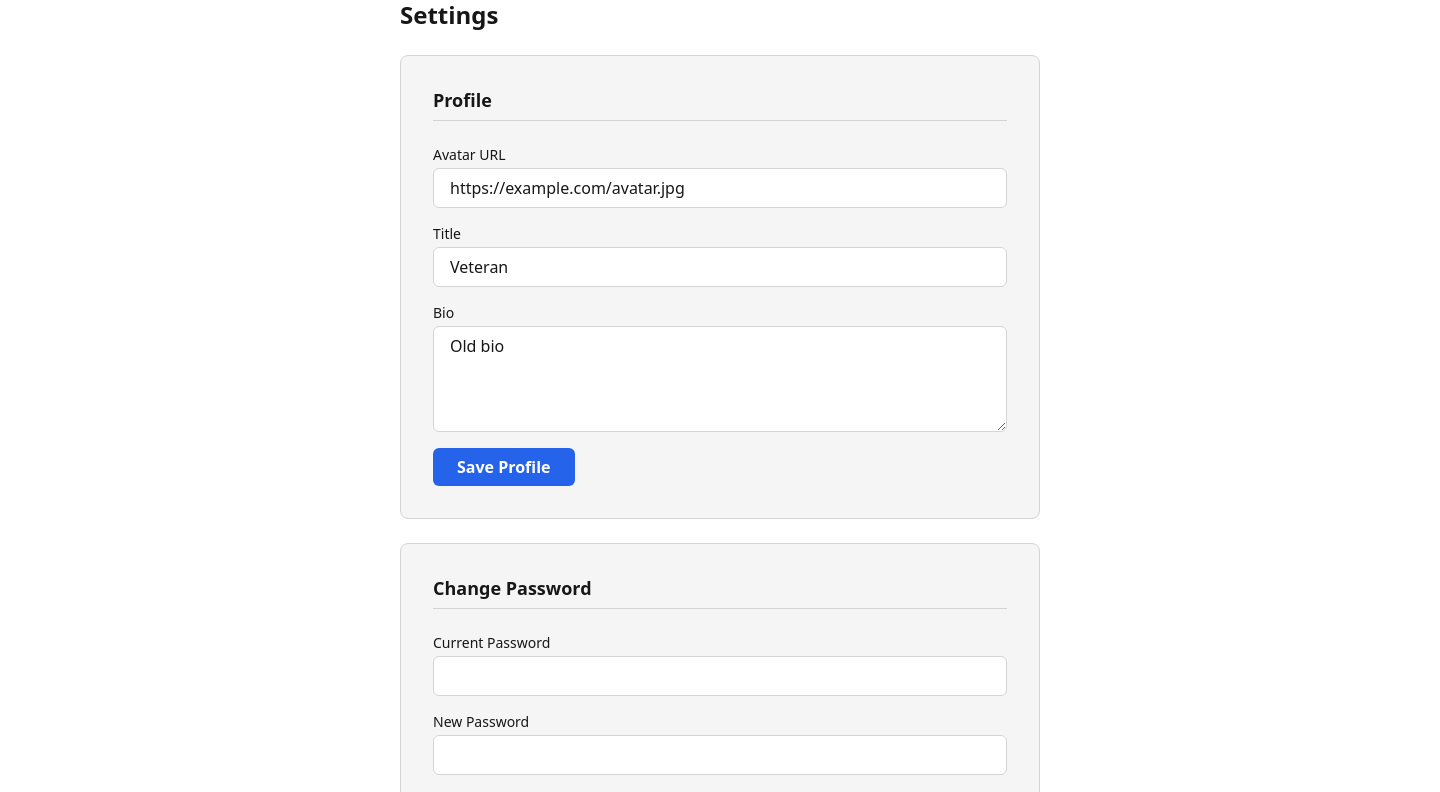
Test case: UserSettingsPage › shows error when new password is too short
The width and height of the screenshot is (1440, 792).
Step 1. Type "oldpass123" into the password field labelled "Current Password" → (720, 676), box [433,656,1007,696]
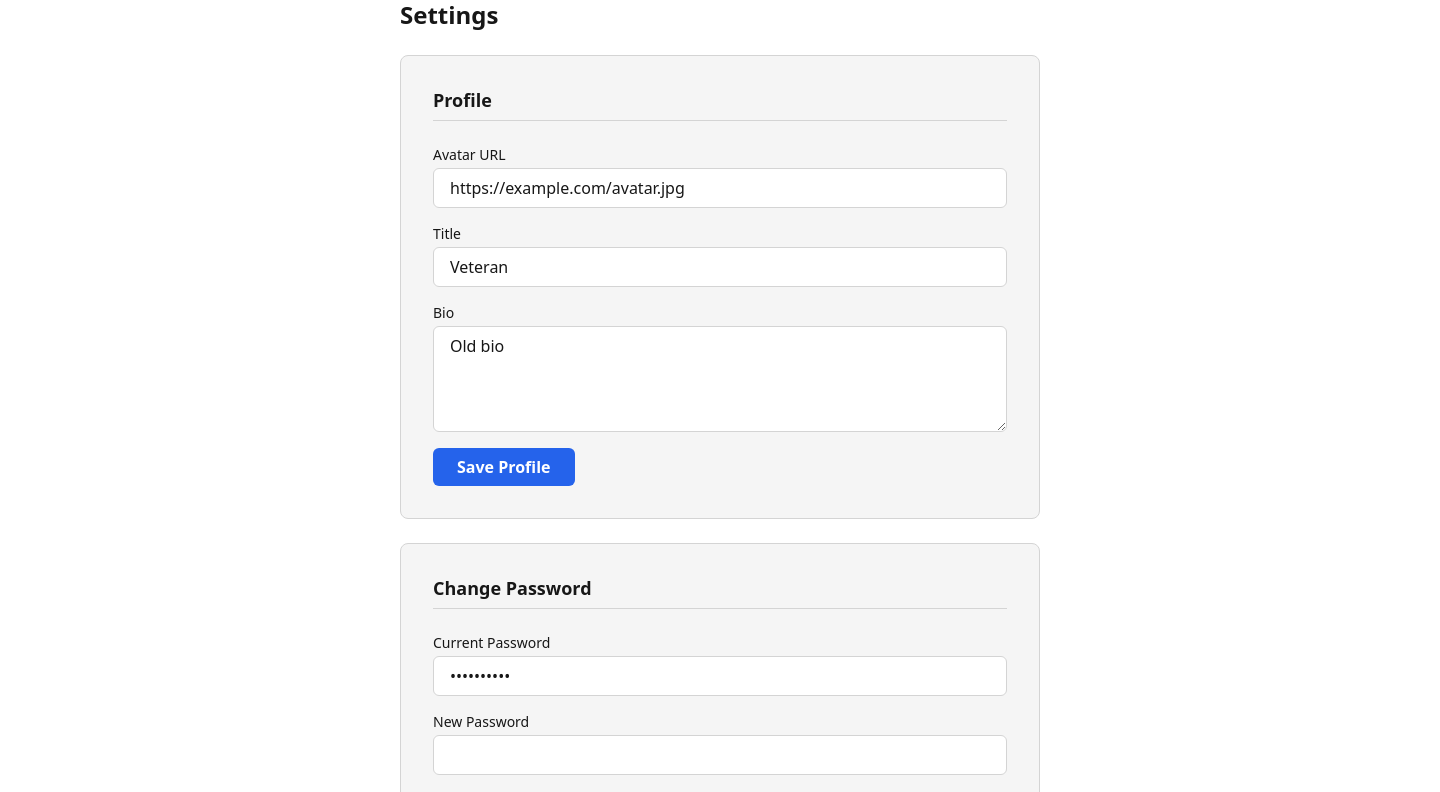
Step 2. Type "short" into the password field labelled "New Password" → (720, 755), box [433,735,1007,775]
(page scrolled)
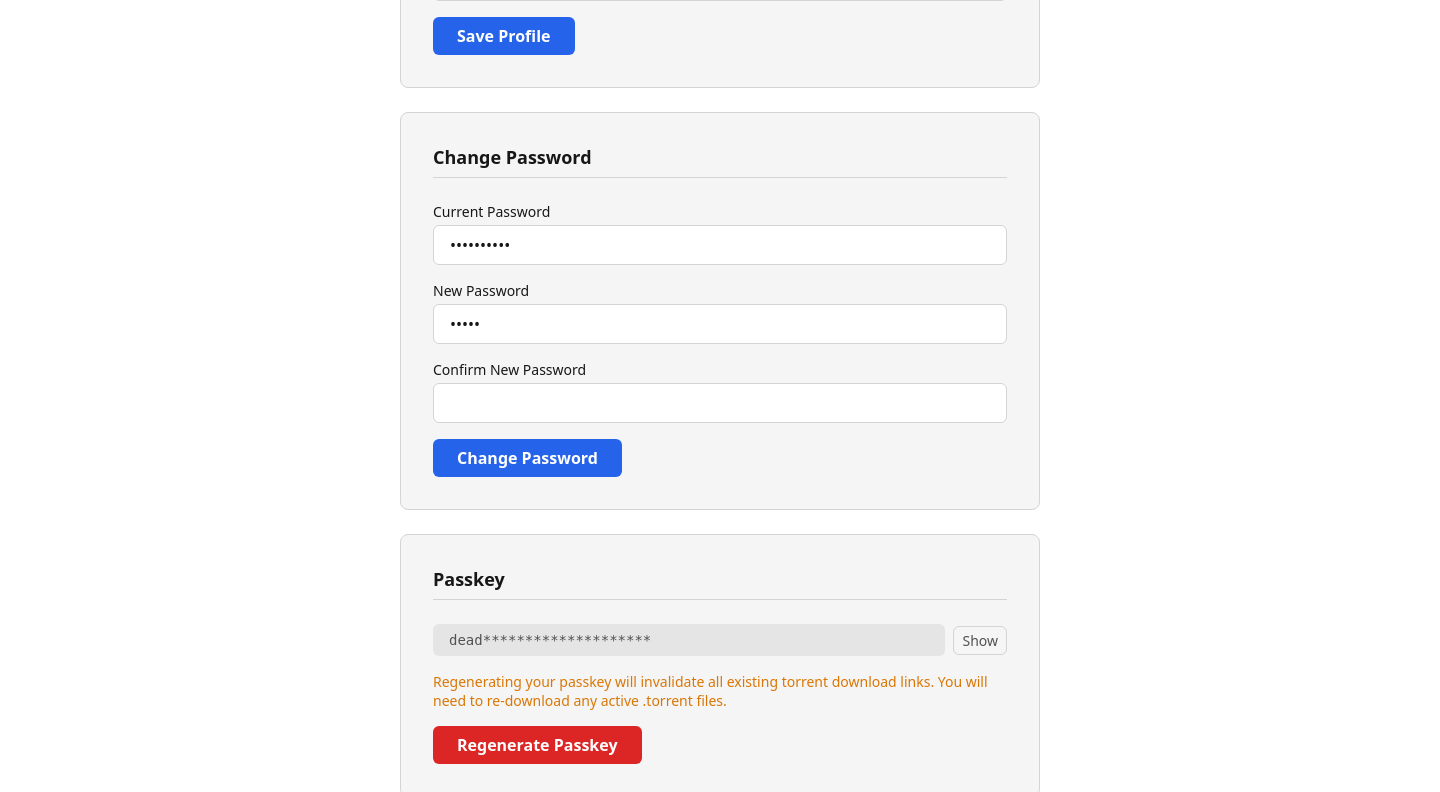
Step 3. Type "short" into the password field labelled "Confirm New Password" → (720, 403), box [433,383,1007,423]
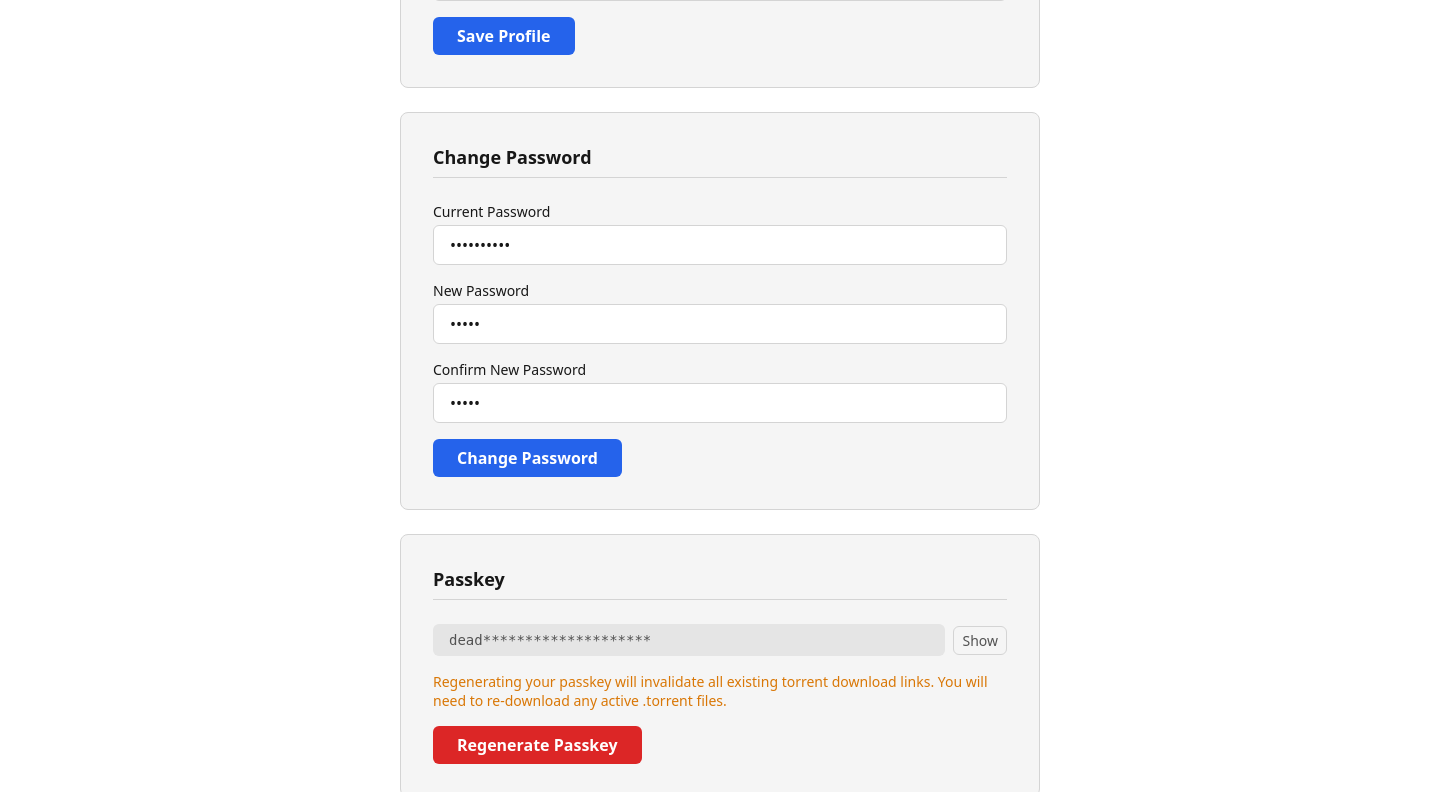
Step 4. Click the button "Change Password" → (527, 458), box [433,439,622,477]
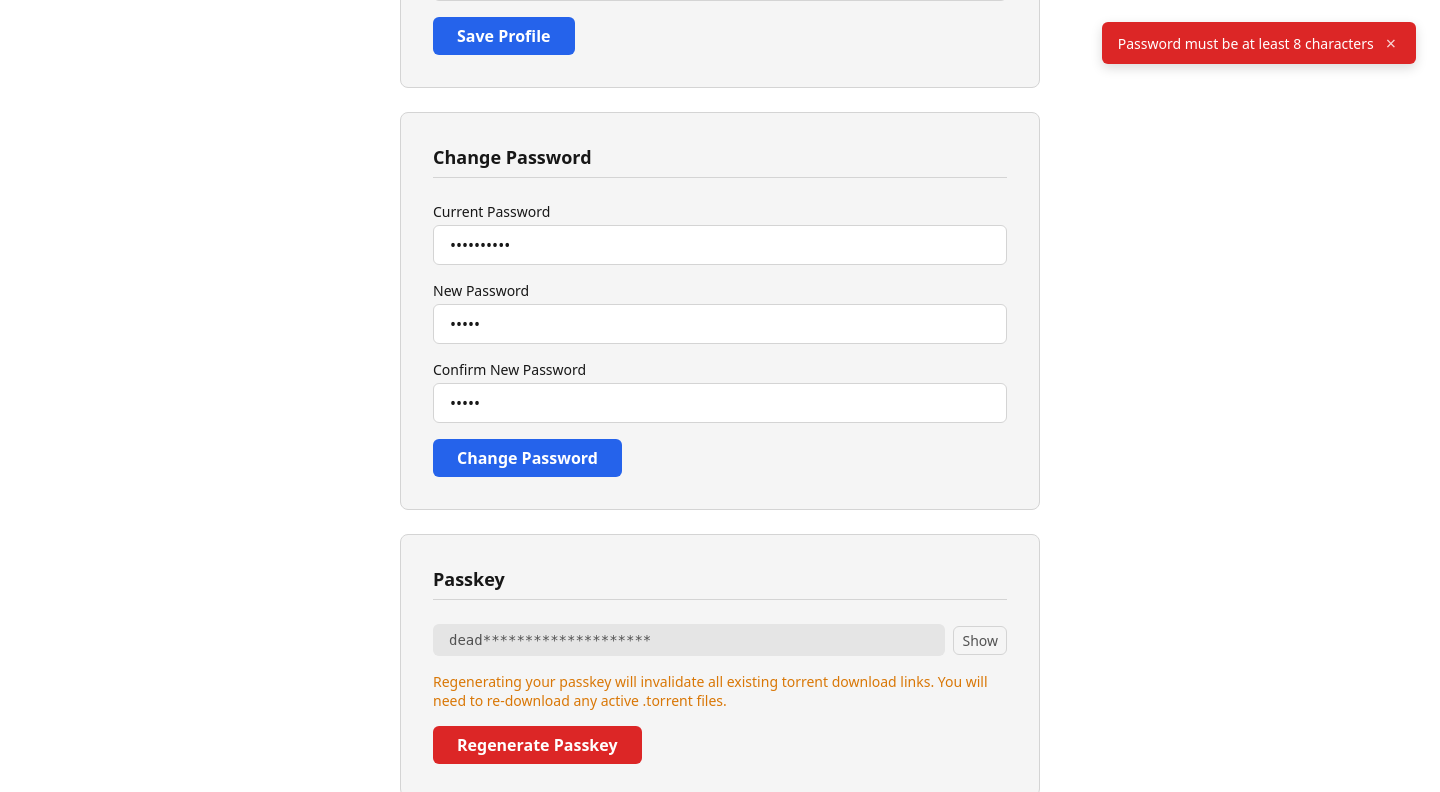
Check: the text "Password must be at least 8 characters" is shown, box [1118,34,1374,52]
